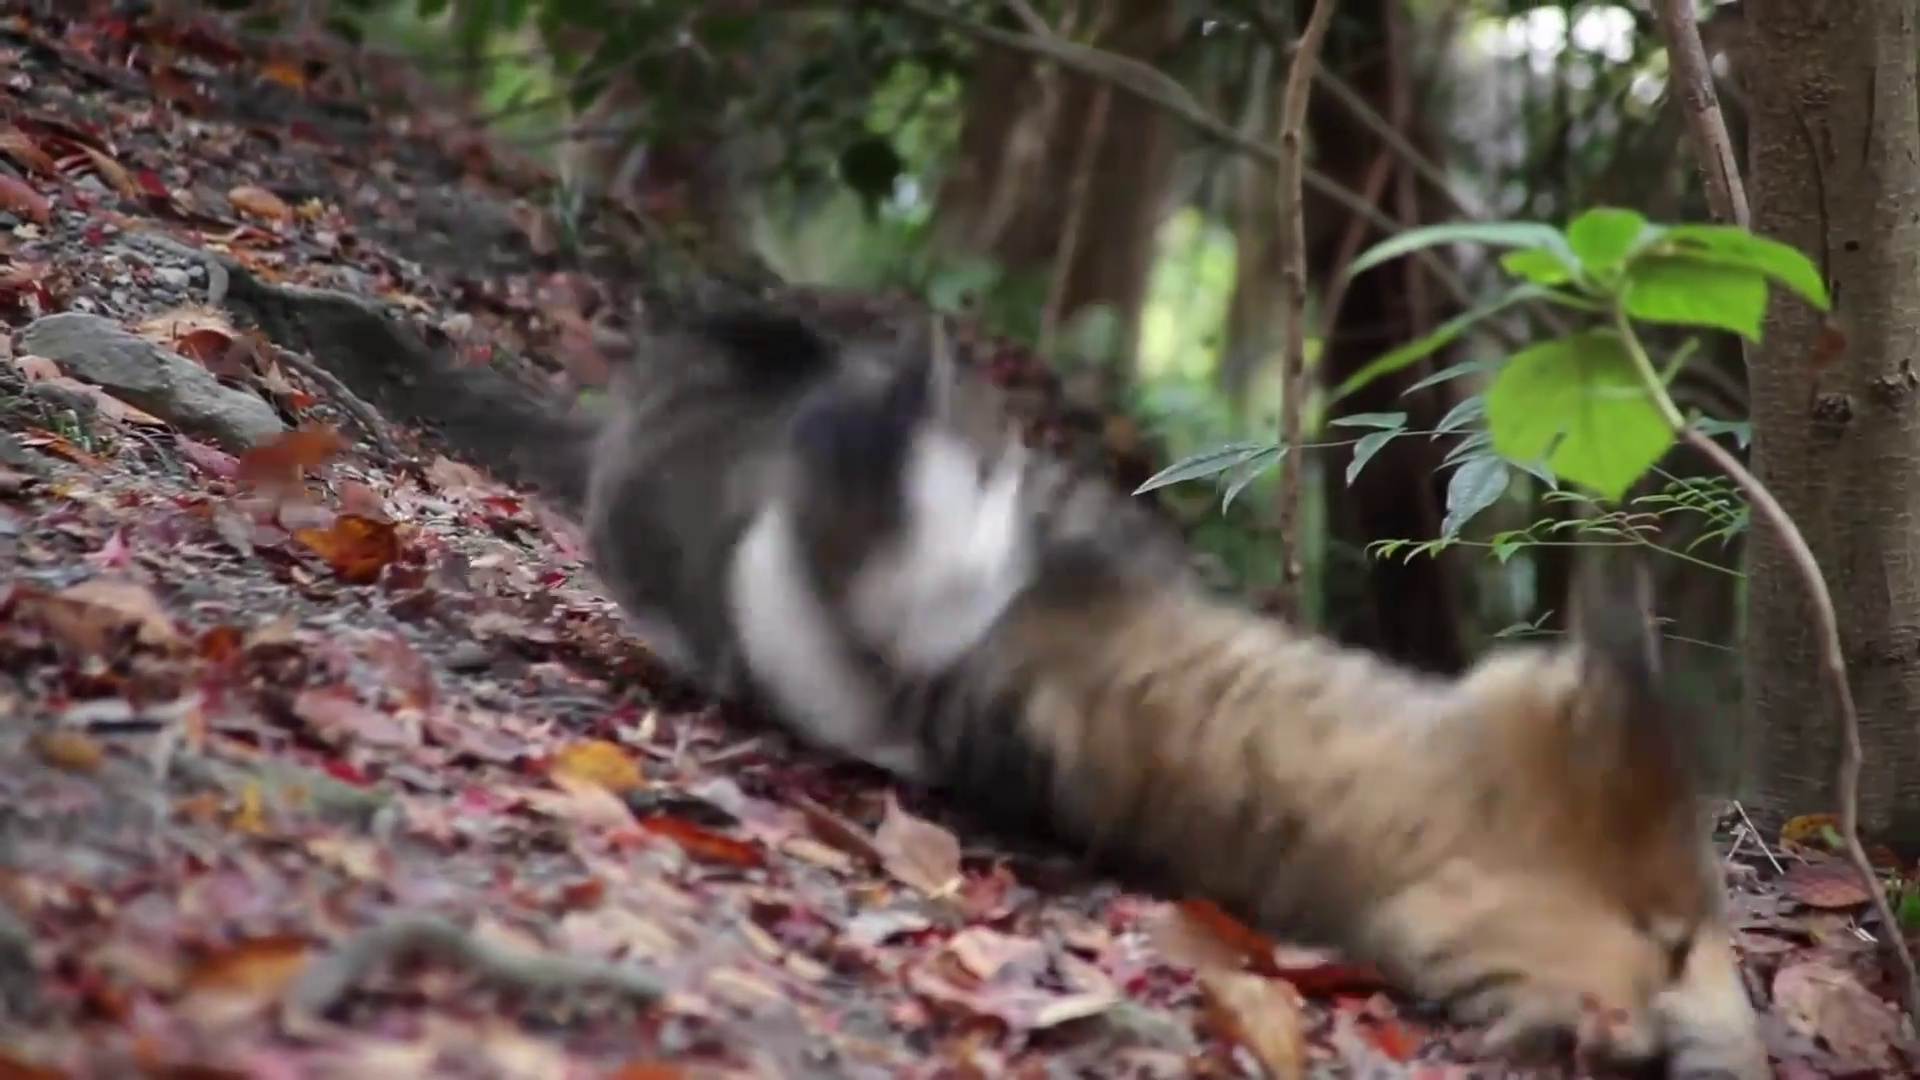black-white: (591, 313, 1127, 793)
pure black: (923, 535, 1692, 1079)
